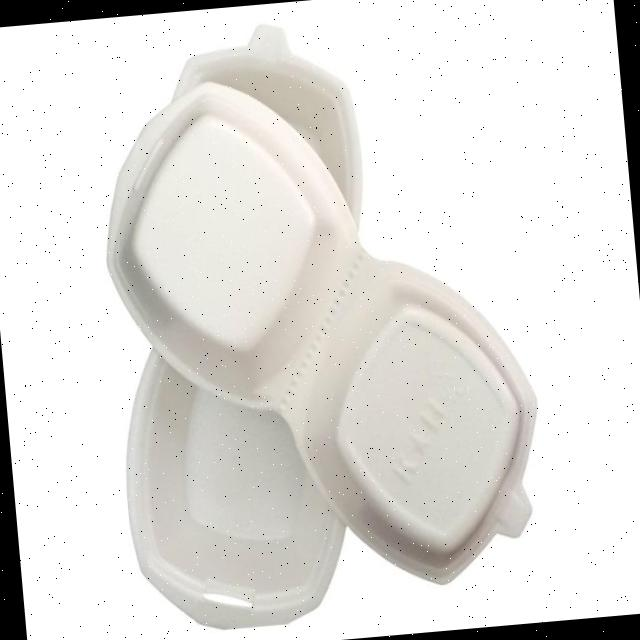styrofoam: (83, 1, 555, 638)
